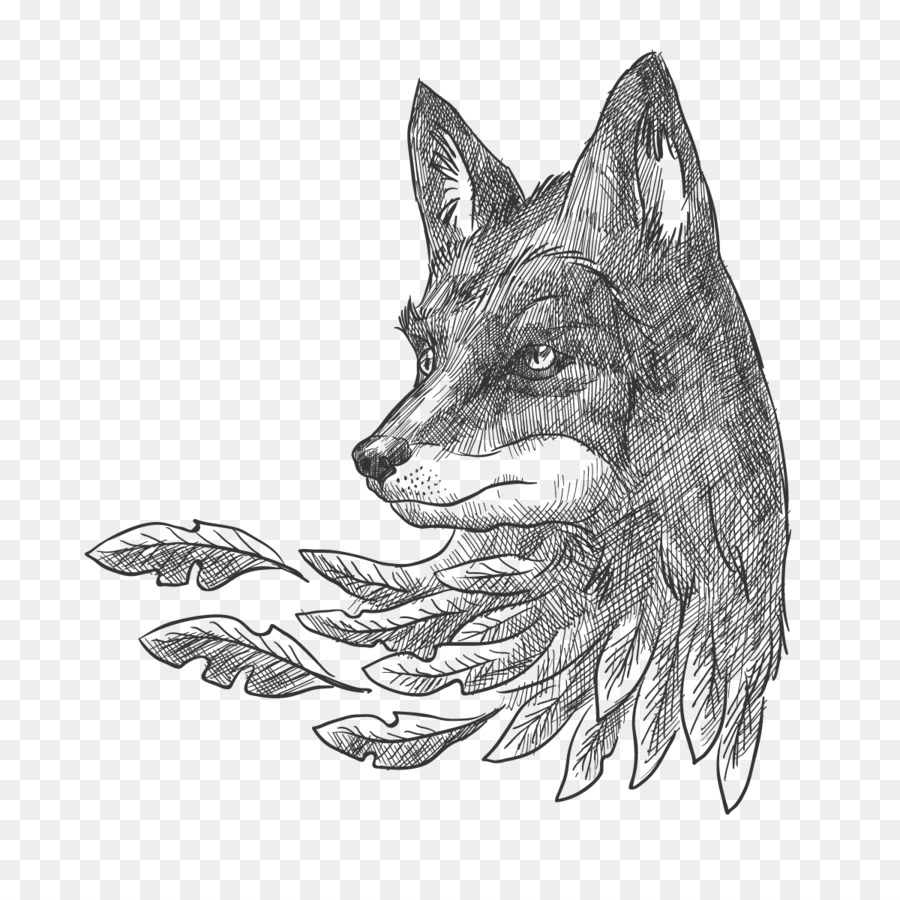Lobo: (325, 25, 823, 742)
